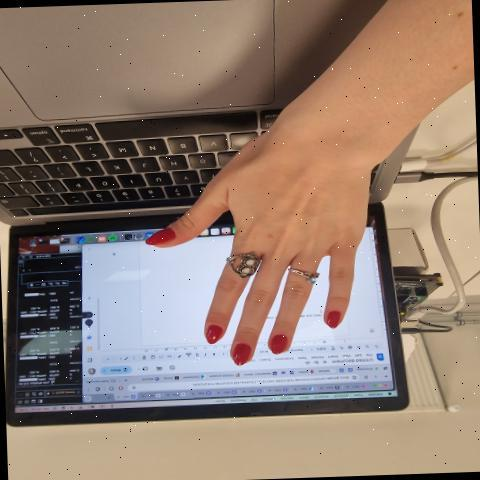Hands: (145, 68, 404, 401)
